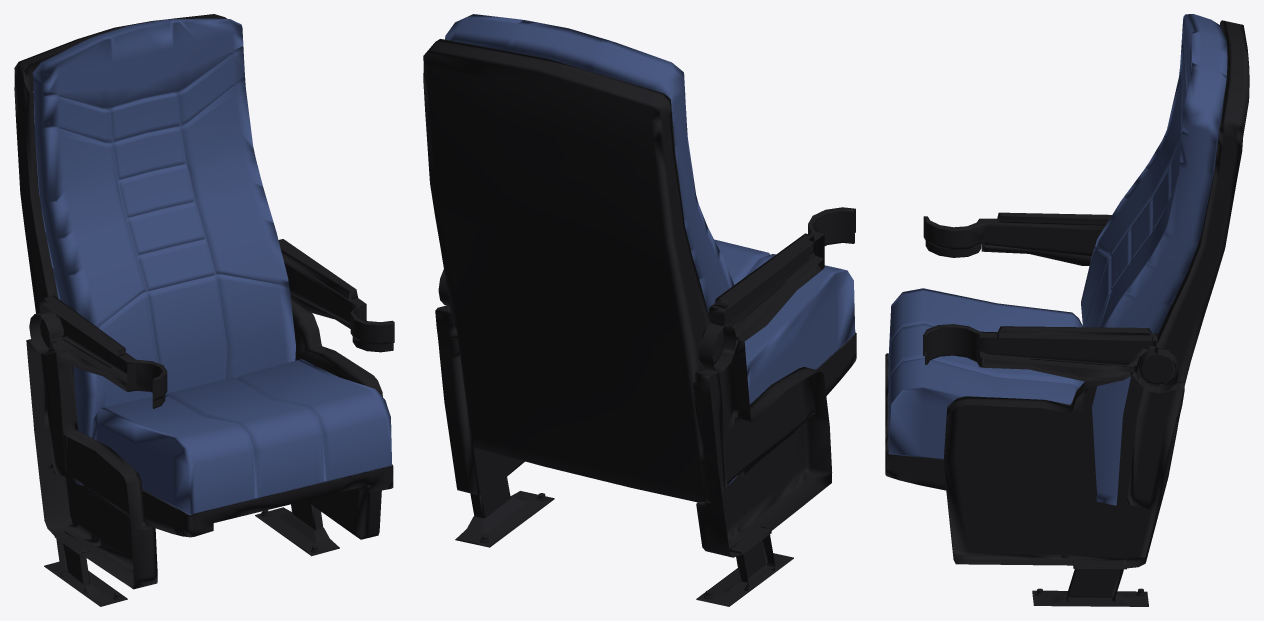
The model's file is seat_premium.glb.
3 views of the same model, side by side, from view 1: azimuth 30°, elevation 25°; view 2: azimuth 150°, elevation 25°; view 3: azimuth 270°, elevation 25° (orthographic). The views are drawn at different scales.
Parts seen in each view (by area): view 1: seat_premium; view 2: seat_premium; view 3: seat_premium.
Part boxes in pixels (box(x1,y1,x2,y2)): seat_premium: box(14, 14, 394, 606); seat_premium: box(423, 14, 856, 606); seat_premium: box(885, 14, 1249, 606).
Bounding box in the file's own units: 0.5599 × 1.1 × 0.725.
